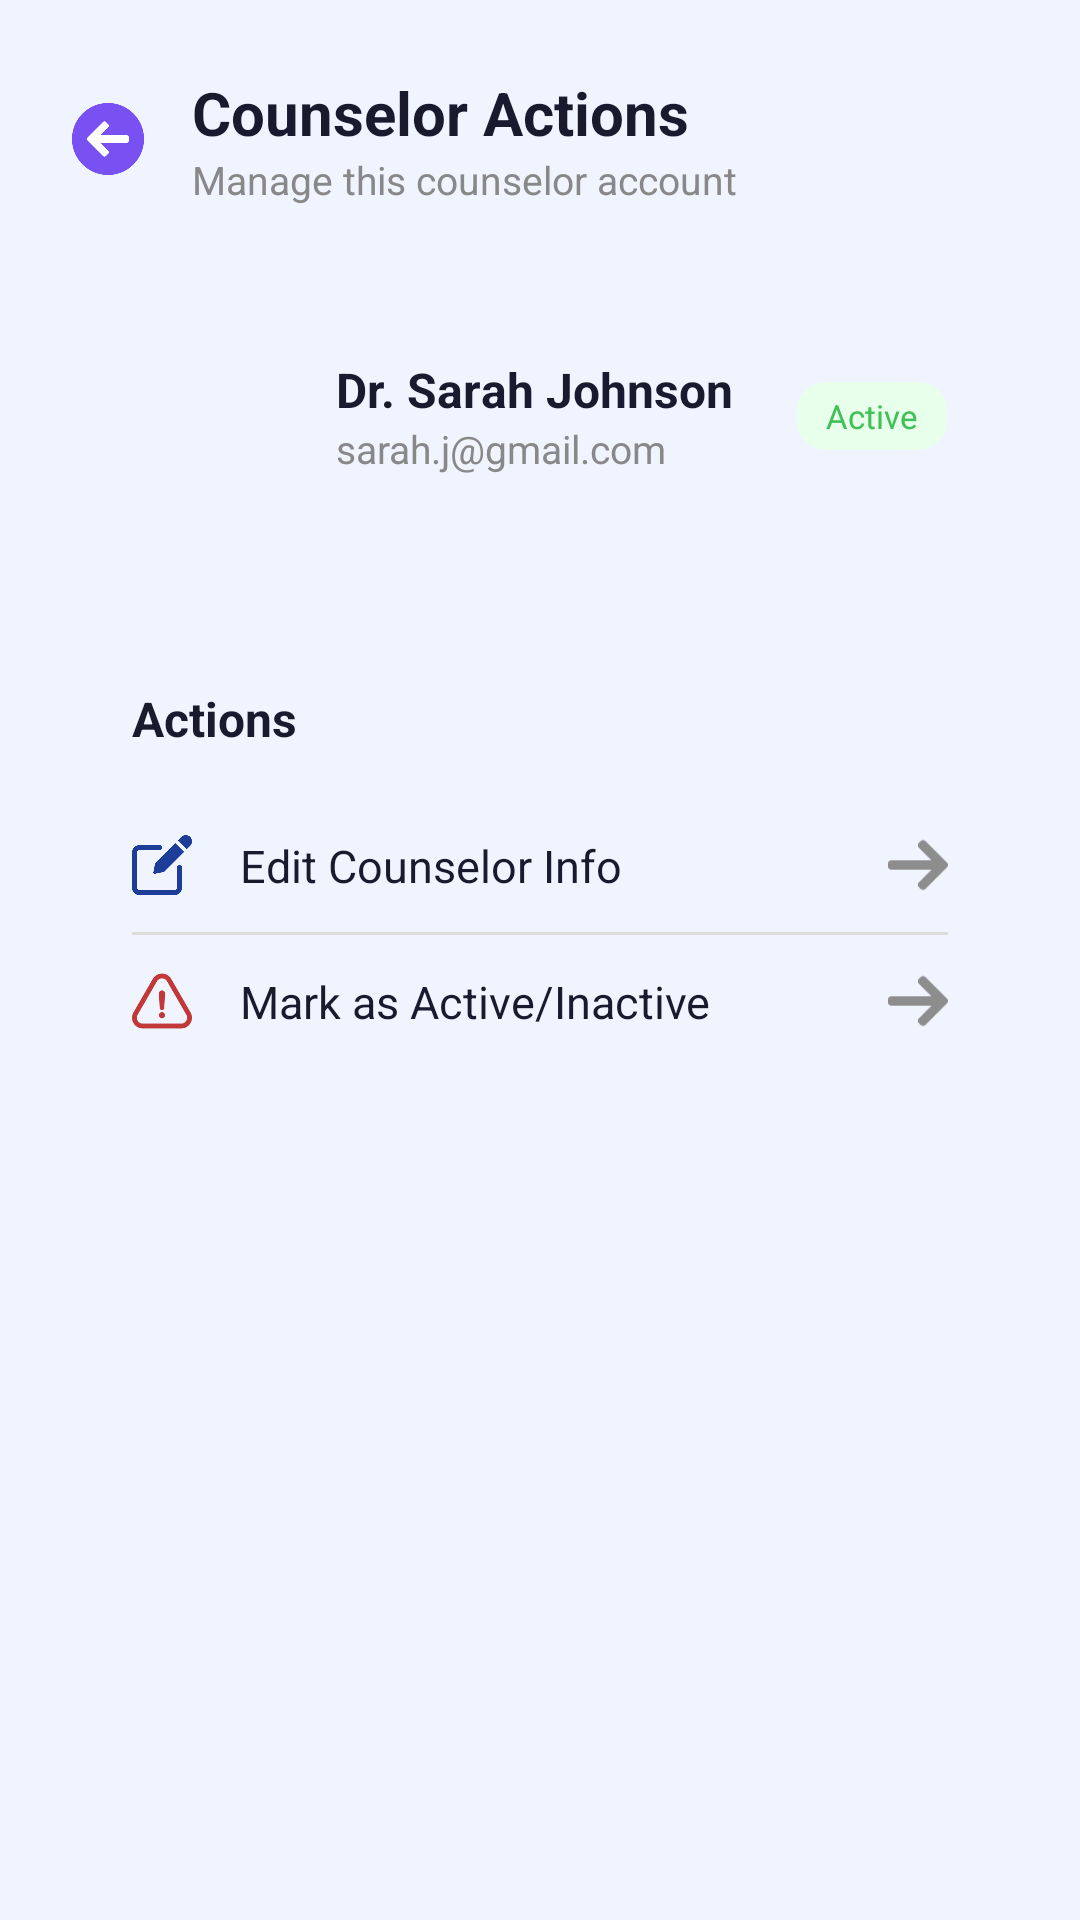

Where to tap for icons on this 1080x1920 app screen, as point (x, y):
back arrow: point (108, 139)
right arrow: point (918, 865), point (918, 1001)
warning: point (162, 1001)
